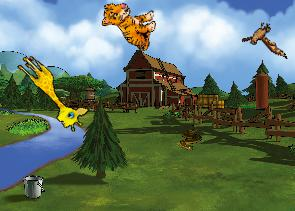eagle: (240, 20, 289, 59)
giraffe: (7, 51, 93, 135)
tiger: (99, 0, 158, 51)
